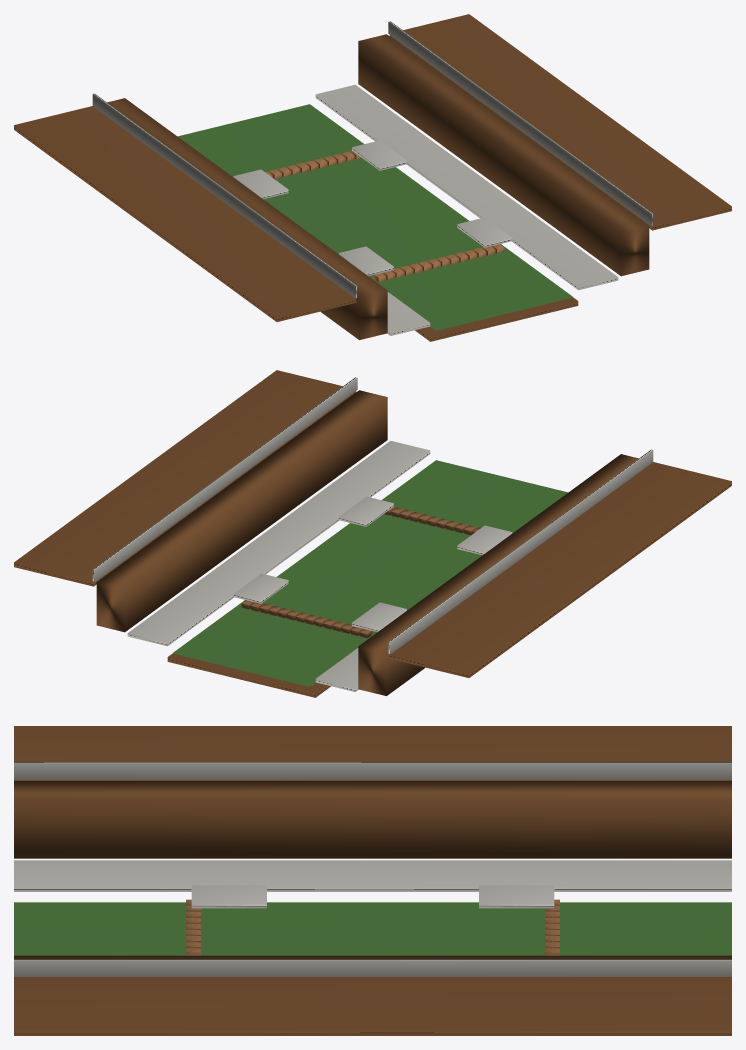
3 views of the same model, one above another, from view 1: azimuth 30°, elevation 25°; view 2: azimuth 150°, elevation 25°; view 3: azimuth 270°, elevation 25° (orthographic). The views are drawn at different scales.
Visible parts, largest first — view 1: cheonggye_street_lod2, cheonggye_river_lod2, cheonggye_walls_lod2, cheonggye_promenade_lod2; view 2: cheonggye_street_lod2, cheonggye_river_lod2, cheonggye_walls_lod2, cheonggye_promenade_lod2; view 3: cheonggye_street_lod2, cheonggye_walls_lod2, cheonggye_river_lod2, cheonggye_promenade_lod2.
Part boxes in pixels (left/top/right/bottom): cheonggye_street_lod2: left=14, top=14, right=731, bottom=321; cheonggye_river_lod2: left=177, top=104, right=578, bottom=341; cheonggye_walls_lod2: left=107, top=34, right=649, bottom=339; cheonggye_promenade_lod2: left=233, top=84, right=618, bottom=335; cheonggye_street_lod2: left=14, top=370, right=731, bottom=677; cheonggye_river_lod2: left=167, top=460, right=568, bottom=697; cheonggye_walls_lod2: left=96, top=390, right=638, bottom=695; cheonggye_promenade_lod2: left=127, top=440, right=512, bottom=691; cheonggye_street_lod2: left=14, top=726, right=731, bottom=1035; cheonggye_walls_lod2: left=14, top=781, right=731, bottom=959; cheonggye_river_lod2: left=14, top=899, right=731, bottom=955; cheonggye_promenade_lod2: left=14, top=860, right=731, bottom=908.
Size of the model in its own units: 40 by 6.2 by 40.
Materials: 3 (3 with a texture image).
